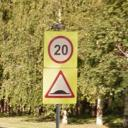speed_limit_20: (47, 34, 75, 64)
